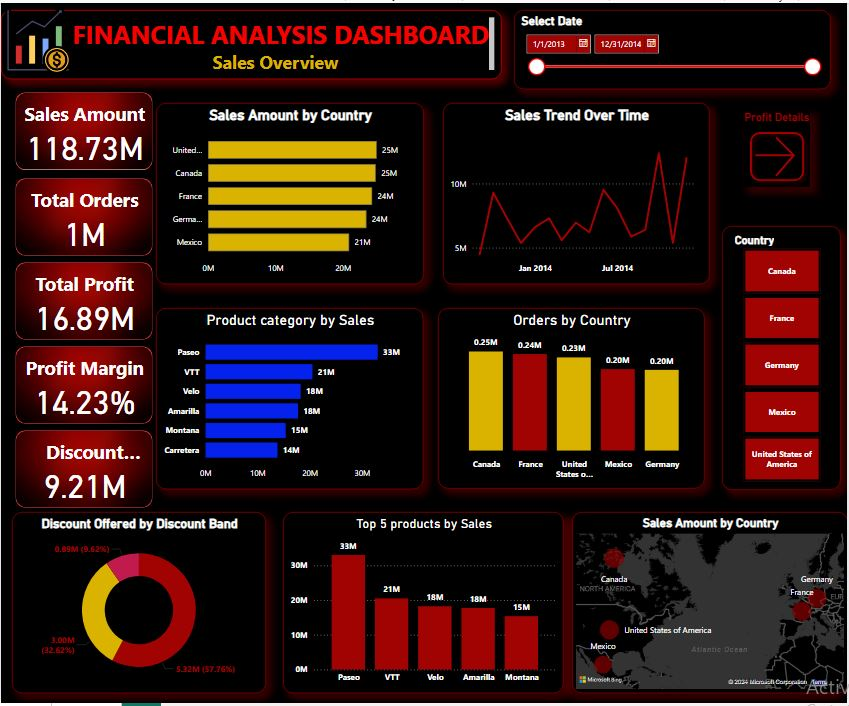

Layout of this report page (visuals, bound fields, positions):
{"tool":"powerbi","page":{"name":"Sales","canvas":[1270,1050],"ordinal":0},"visuals":[{"type":"textbox","box":[0,10.5,750.9,103.8],"z":0},{"type":"image","box":[0,0,111.4,114.4],"z":1000},{"type":"cardVisual","title":"Total Sales","fields":{"Data":["Analysis.Total Orders"]},"box":[16.6,257.3,216.7,126.4],"z":2000},{"type":"cardVisual","title":"Total Sales","fields":{"Data":["Analysis.Sales Amount"]},"box":[16.6,129.4,216.7,127.9],"z":3000},{"type":"cardVisual","title":"Total Sales","fields":{"Data":["Analysis.Total Profit"]},"box":[16.6,383.7,216.7,126.4],"z":4000},{"type":"cardVisual","title":"Total Sales","fields":{"Data":["Analysis.Profit Margin"]},"box":[16.6,510.1,216.7,126.4],"z":5000},{"type":"cardVisual","title":"Total Sales","fields":{"Data":["Analysis.Discount Offered"]},"box":[16.6,636.5,216.7,126.4],"z":6000},{"type":"barChart","fields":{"Category":["Financials.Country"],"Y":["Analysis.Sales Amount"]},"box":[233.2,150.5,401.8,272.4],"z":7000},{"type":"barChart","title":"Product category by Sales","fields":{"Y":["Analysis.Sales Amount"],"Category":["Financials.Product"]},"box":[233.2,457.4,401,272],"z":8000},{"type":"donutChart","fields":{"Y":["Analysis.Discount Offered"],"Category":["Financials.Discount Band"]},"box":[16.6,762.9,380.7,272.4],"z":9000},{"type":"lineChart","title":"Sales Trend Over Time","fields":{"Y":["Analysis.Sales Amount"],"Category":["Date Table.Date.Variation.Date Hierarchy.Year","Date Table.Date.Variation.Date Hierarchy.Month"]},"box":[663.6,150.5,400.3,272.4],"z":10000},{"type":"map","fields":{"Category":["Financials.Country"],"Size":["Analysis.Sales Amount"]},"box":[856.2,762.9,413.8,272.4],"z":11000},{"type":"columnChart","title":"Top 5 products by Sales","fields":{"Y":["Analysis.Sales Amount"],"Category":["Financials.Product"]},"box":[422.8,762.9,421.3,272.4],"z":12000},{"type":"slicer","fields":{"Values":["Financials.Country"]},"box":[1081.9,334.1,177.6,395.7],"z":13000},{"type":"slicer","title":"Select Date","fields":{"Values":["Date Table.Date"]},"box":[768.9,10.5,475.5,118.9],"z":14000},{"type":"actionButton","title":"Profit Details","box":[1115,161,99.3,115.9],"z":15000},{"type":"columnChart","title":"Orders by Country","fields":{"Y":["Analysis.Total Orders"],"Category":["Financials.Country"]},"box":[656.1,457.4,400.3,270.9],"z":16000}]}

Visuals, with their boxes in screenshot pixels (x1, y1, x2, y2), scaled from the page's 1270x1050 canvas onto the 849x706 screenshot:
textbox: {"left": 0, "top": 7, "right": 502, "bottom": 77}
image: {"left": 0, "top": 0, "right": 74, "bottom": 77}
"Total Sales" cardVisual: {"left": 11, "top": 173, "right": 156, "bottom": 258}
"Total Sales" cardVisual: {"left": 11, "top": 87, "right": 156, "bottom": 173}
"Total Sales" cardVisual: {"left": 11, "top": 258, "right": 156, "bottom": 343}
"Total Sales" cardVisual: {"left": 11, "top": 343, "right": 156, "bottom": 428}
"Total Sales" cardVisual: {"left": 11, "top": 428, "right": 156, "bottom": 513}
barChart - Financials.Country x Analysis.Sales Amount: {"left": 156, "top": 101, "right": 424, "bottom": 284}
"Product category by Sales" barChart: {"left": 156, "top": 308, "right": 424, "bottom": 490}
donutChart - Analysis.Discount Offered x Financials.Discount Band: {"left": 11, "top": 513, "right": 266, "bottom": 696}
"Sales Trend Over Time" lineChart: {"left": 444, "top": 101, "right": 711, "bottom": 284}
map - Financials.Country x Analysis.Sales Amount: {"left": 572, "top": 513, "right": 848, "bottom": 696}
"Top 5 products by Sales" columnChart: {"left": 283, "top": 513, "right": 564, "bottom": 696}
slicer - Financials.Country: {"left": 723, "top": 225, "right": 842, "bottom": 491}
"Select Date" slicer: {"left": 514, "top": 7, "right": 832, "bottom": 87}
"Profit Details" actionButton: {"left": 745, "top": 108, "right": 812, "bottom": 186}
"Orders by Country" columnChart: {"left": 439, "top": 308, "right": 706, "bottom": 490}
